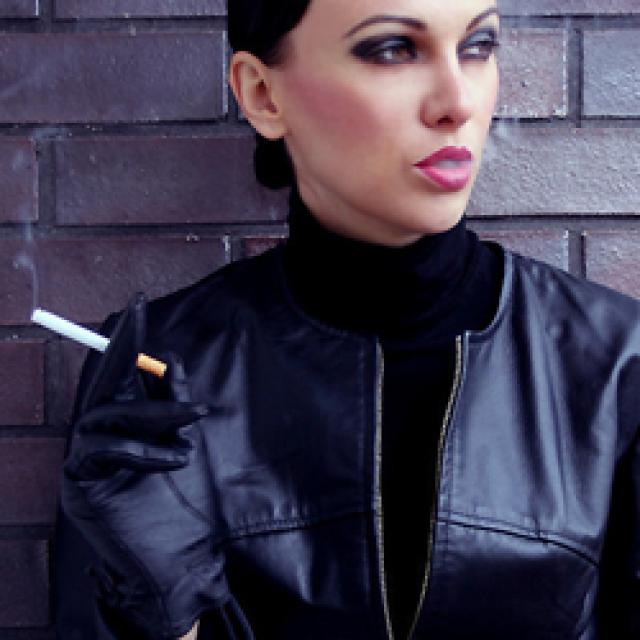Smooking: (24, 302, 186, 383)
